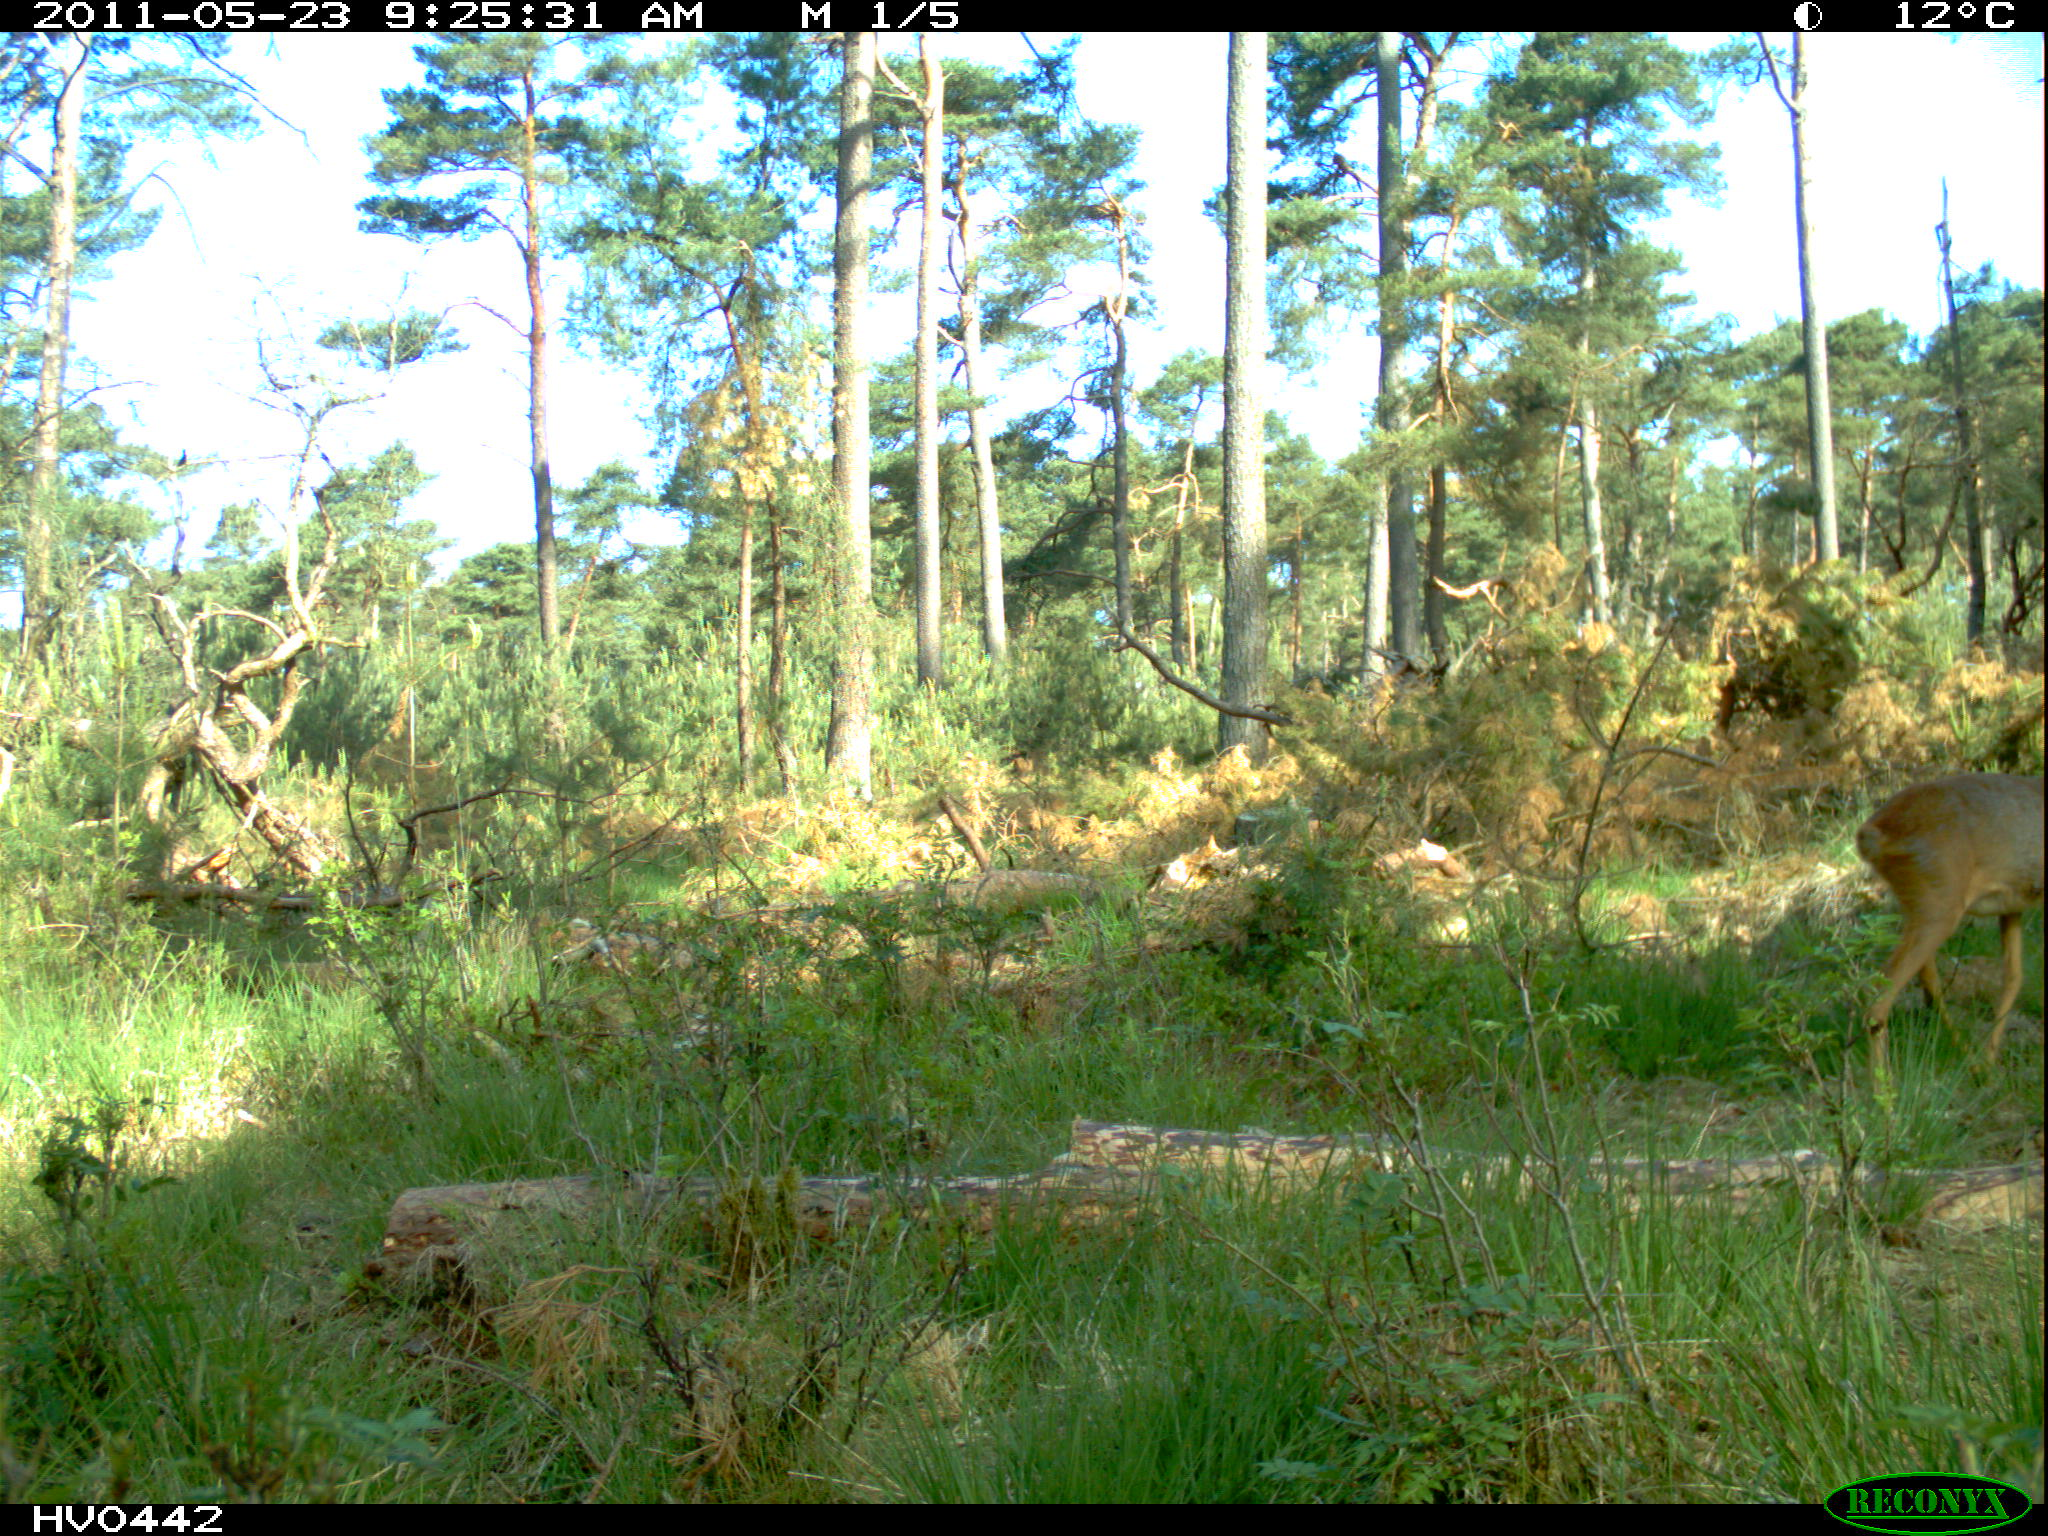Deer: (1851, 763, 2046, 1144)
